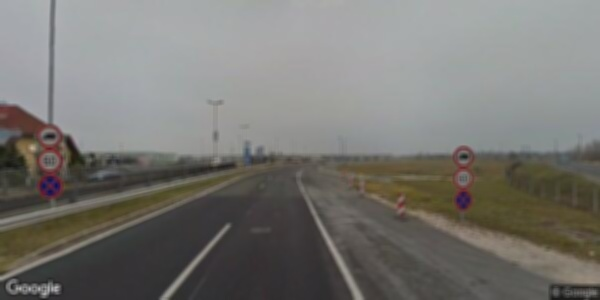b_speed_limit: (36, 150, 63, 174), (453, 169, 474, 188)
e_no_stop_park: (37, 174, 63, 198), (455, 189, 472, 211)
f_others: (35, 124, 60, 149), (454, 146, 474, 169)
